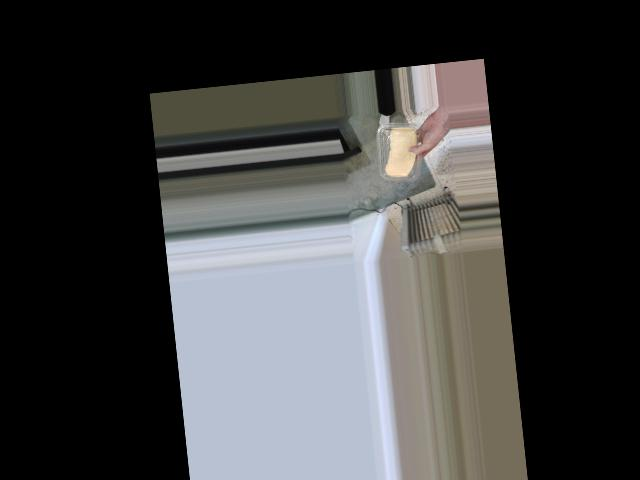cheese: (375, 120, 426, 185)
